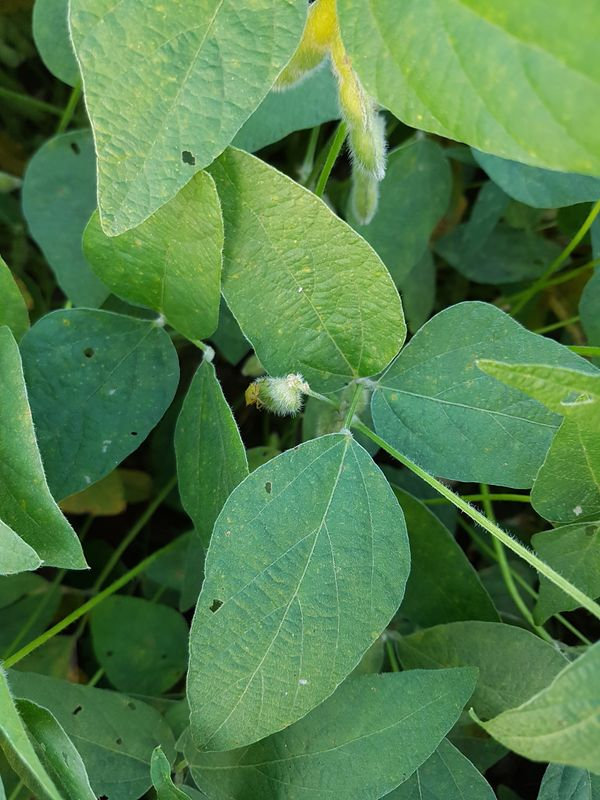Euschistus_heros_ninfa: (237, 374, 273, 413)
